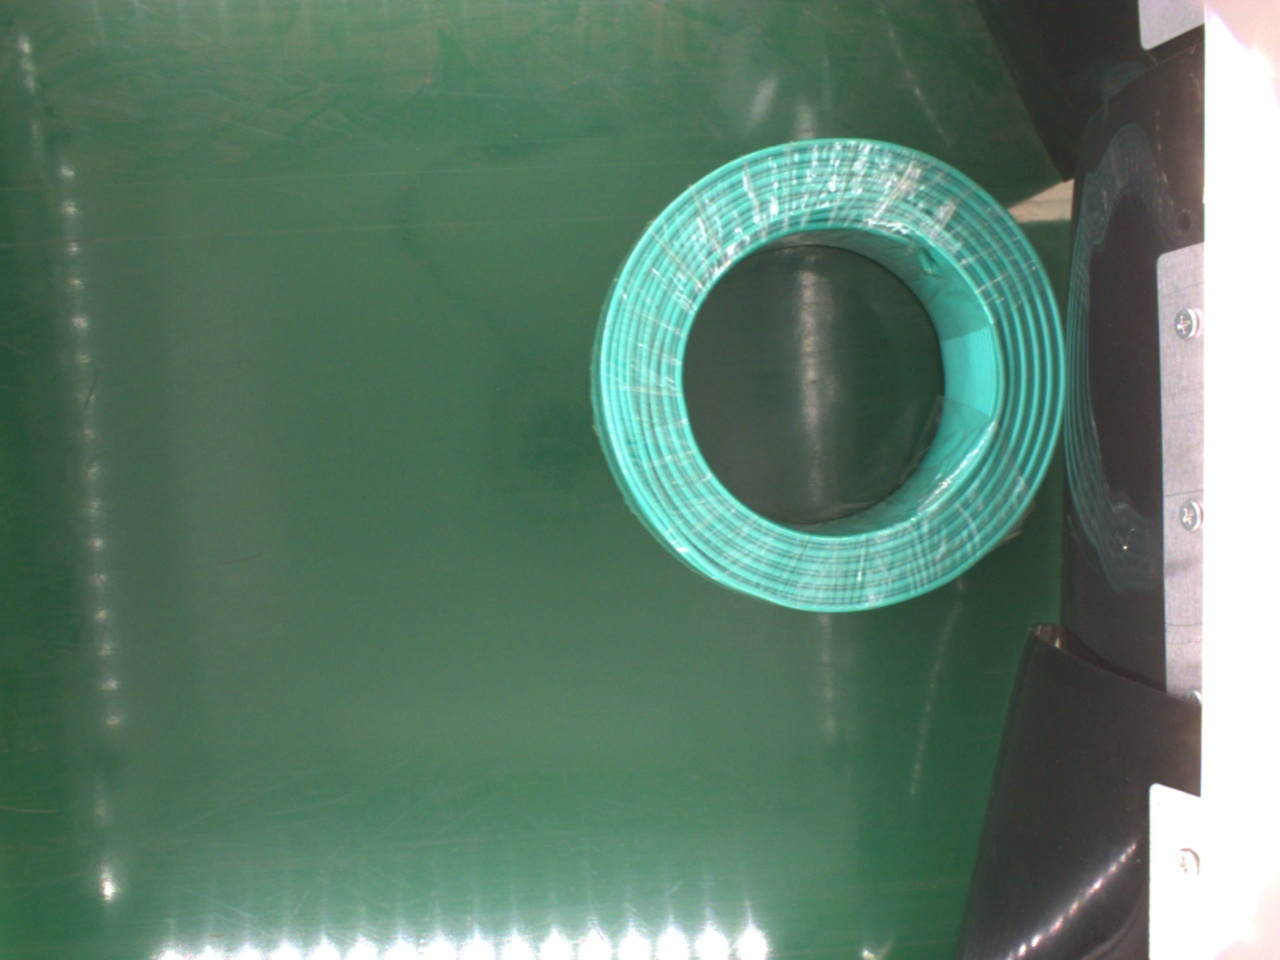green: (595, 137, 1060, 618)
